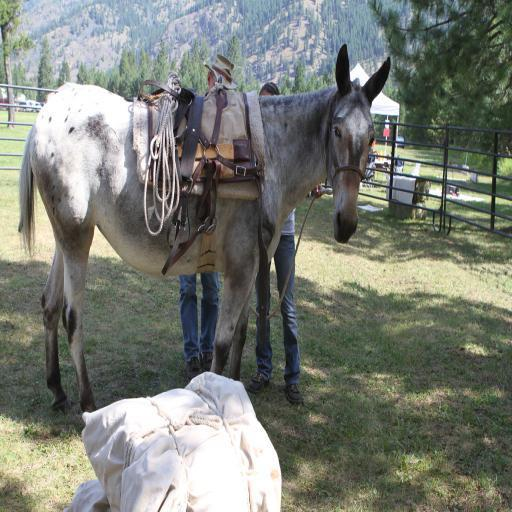horse: (18, 42, 392, 411)
